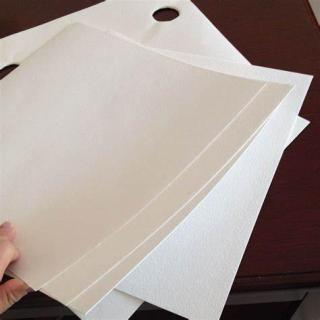Anorganik: (1, 27, 284, 320)
